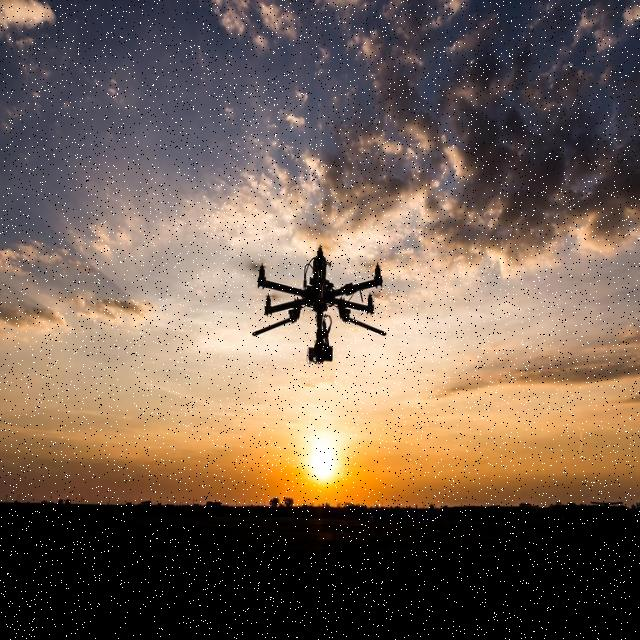UAV: (250, 248, 387, 366)
